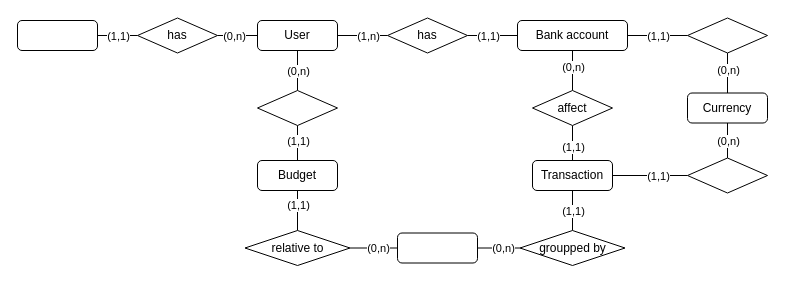
The diagram is 785 pixels wide and 283 high, and some of its shapes have lost their labels. Here are the shapes that lost their labels. From the top down, the centre of each, then its label:
At (57,35): "Milestone".
At (727,35): "use".
At (297,108): "set".
At (727,175): "as".
At (437,247): "Category".
